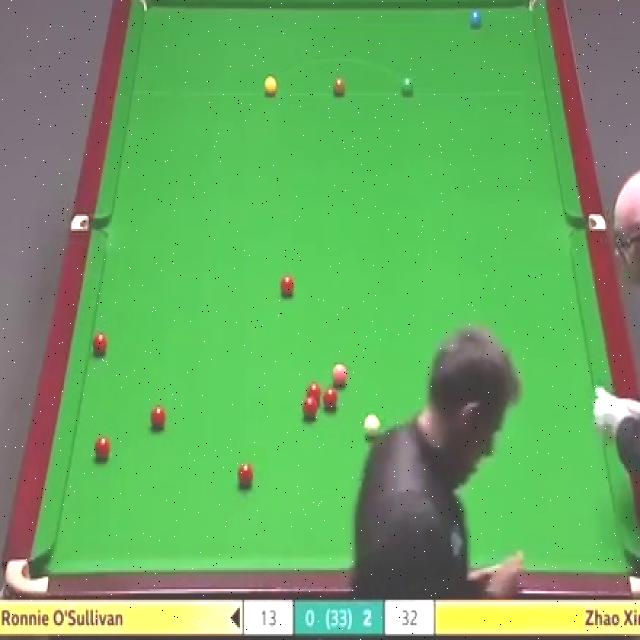blue-ball: (470, 9, 481, 32)
brown-ball: (332, 78, 346, 96)
green-ball: (400, 74, 415, 99)
pink-ball: (332, 362, 348, 386)
red-ball: (90, 331, 109, 358), (323, 387, 339, 412), (93, 436, 110, 459), (238, 462, 253, 488), (150, 406, 165, 431), (278, 275, 295, 296), (307, 382, 321, 406), (303, 396, 317, 418)
white-ball: (363, 414, 380, 441)
yellow-ball: (263, 75, 278, 97)
